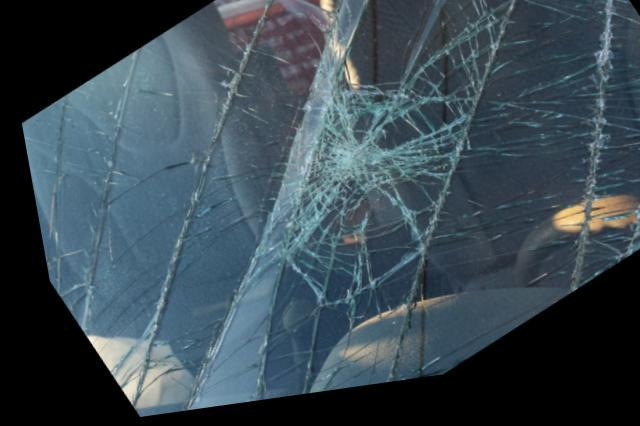glass shatter: (17, 0, 640, 419)
